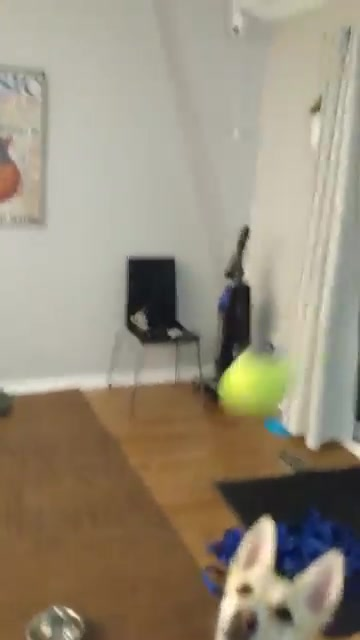tennis_ball: (219, 347, 295, 415)
